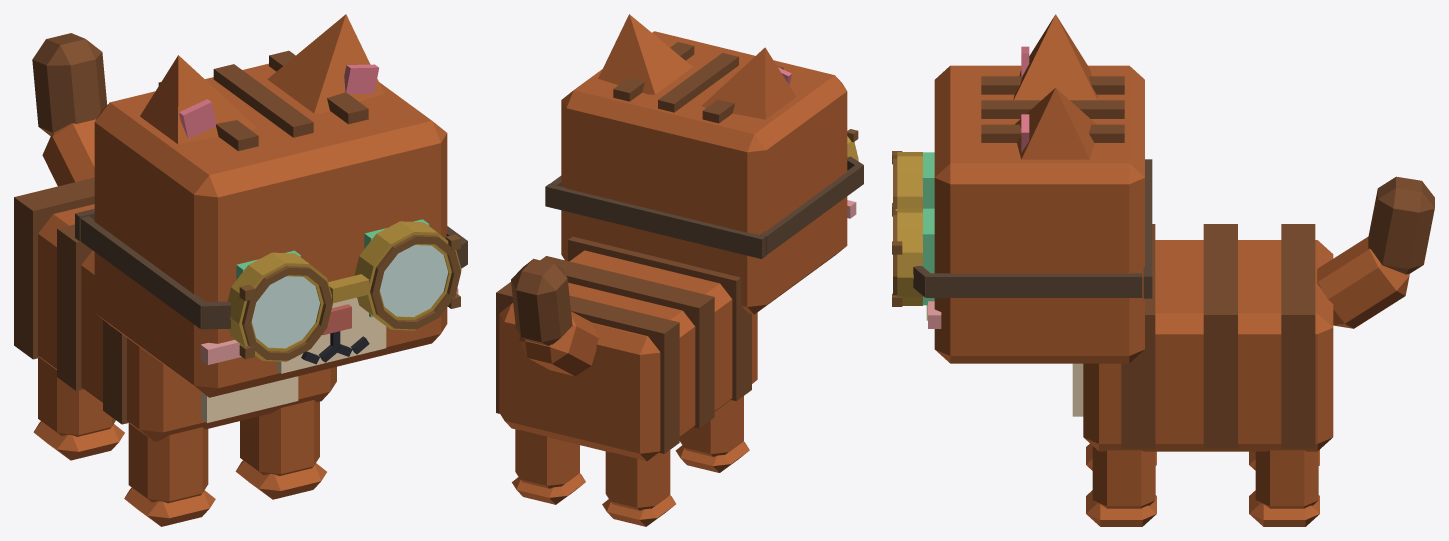
The model's file is CatCafe_Cat_Gears.fbx.
3 views of the same model, side by side, from view 1: azimuth 30°, elevation 25°; view 2: azimuth 150°, elevation 25°; view 3: azimuth 270°, elevation 25° (orthographic). The views are drawn at different scales.
Visible parts, largest first — view 1: CatCafe_Cat_Gears_Head, CatCafe_Cat_Gears_Body, CatCafe_Cat_Gears_Prop, CatCafe_Cat_Gears_Tail, CatCafe_Cat_Gears_Prop_Glass, CatCafe_Cat_Gears_LegF2, CatCafe_Cat_Gears_LegF1, CatCafe_Cat_Gears_EarL, CatCafe_Cat_Gears_LegB2, CatCafe_Cat_Gears_EarR; view 2: CatCafe_Cat_Gears_Head, CatCafe_Cat_Gears_Body, CatCafe_Cat_Gears_Prop, CatCafe_Cat_Gears_Tail, CatCafe_Cat_Gears_LegB2, CatCafe_Cat_Gears_LegB1, CatCafe_Cat_Gears_EarL, CatCafe_Cat_Gears_EarR, CatCafe_Cat_Gears_LegF2; view 3: CatCafe_Cat_Gears_Head, CatCafe_Cat_Gears_Body, CatCafe_Cat_Gears_Prop, CatCafe_Cat_Gears_Tail, CatCafe_Cat_Gears_LegF1, CatCafe_Cat_Gears_LegB1, CatCafe_Cat_Gears_EarR, CatCafe_Cat_Gears_EarL, CatCafe_Cat_Gears_Eye1, CatCafe_Cat_Gears_Eye2.
Part boxes in pixels (x1,y1,x2,y2): CatCafe_Cat_Gears_Head: [94, 50, 458, 397]; CatCafe_Cat_Gears_Body: [14, 177, 336, 441]; CatCafe_Cat_Gears_Prop: [75, 208, 467, 361]; CatCafe_Cat_Gears_Tail: [32, 33, 107, 186]; CatCafe_Cat_Gears_Prop_Glass: [251, 245, 448, 348]; CatCafe_Cat_Gears_LegF2: [124, 423, 215, 526]; CatCafe_Cat_Gears_LegF1: [235, 400, 326, 499]; CatCafe_Cat_Gears_EarL: [267, 14, 384, 113]; CatCafe_Cat_Gears_LegB2: [33, 358, 124, 460]; CatCafe_Cat_Gears_EarR: [140, 55, 256, 144]; CatCafe_Cat_Gears_Head: [561, 31, 856, 314]; CatCafe_Cat_Gears_Body: [496, 236, 757, 461]; CatCafe_Cat_Gears_Prop: [545, 129, 863, 258]; CatCafe_Cat_Gears_Tail: [511, 258, 598, 376]; CatCafe_Cat_Gears_LegB2: [602, 450, 675, 526]; CatCafe_Cat_Gears_LegB1: [512, 429, 585, 504]; CatCafe_Cat_Gears_EarL: [598, 14, 692, 94]; CatCafe_Cat_Gears_EarR: [702, 47, 796, 119]; CatCafe_Cat_Gears_LegF2: [675, 396, 749, 472]; CatCafe_Cat_Gears_Head: [926, 65, 1144, 363]; CatCafe_Cat_Gears_Body: [1072, 224, 1333, 451]; CatCafe_Cat_Gears_Prop: [892, 151, 1152, 306]; CatCafe_Cat_Gears_Tail: [1317, 176, 1434, 328]; CatCafe_Cat_Gears_LegF1: [1086, 446, 1156, 526]; CatCafe_Cat_Gears_LegB1: [1249, 450, 1319, 526]; CatCafe_Cat_Gears_EarR: [1013, 14, 1097, 100]; CatCafe_Cat_Gears_EarL: [1015, 87, 1096, 159]; CatCafe_Cat_Gears_Eye1: [922, 208, 934, 305]; CatCafe_Cat_Gears_Eye2: [922, 152, 934, 208].
Size of the model in its own units: 1.05 by 1.86 by 2.06.
Materials: 1 (1 with a texture image).
